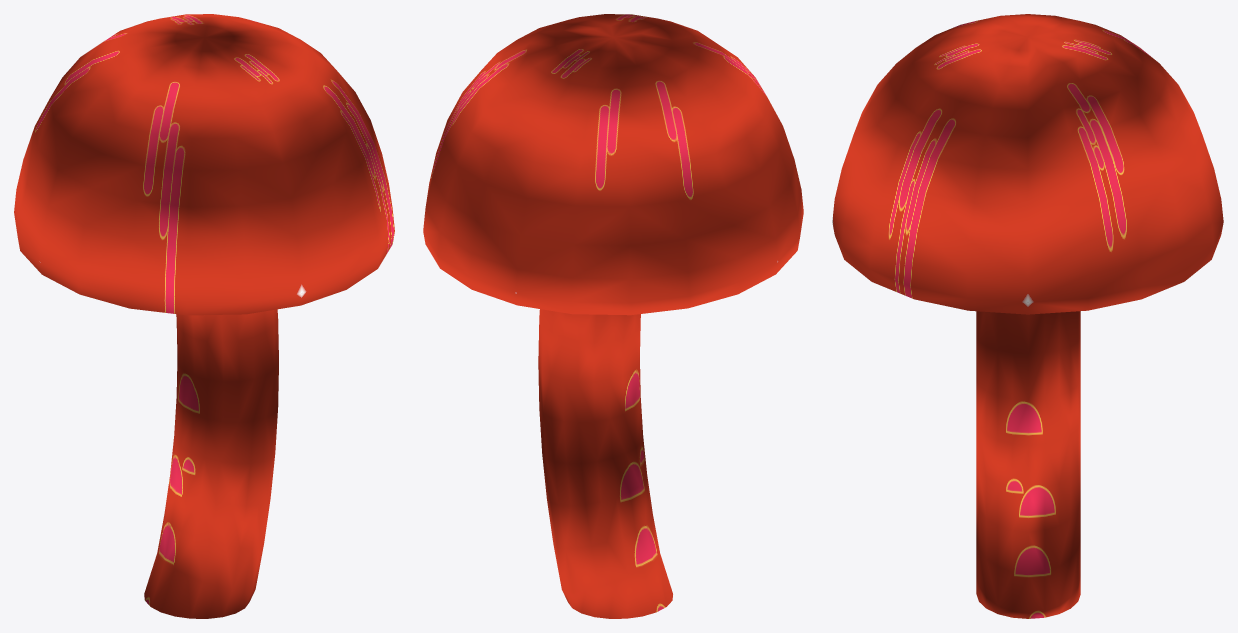
File: Mushroom.obj
3 renders of one model, left to right at view 1: azimuth 30°, elevation 25°; view 2: azimuth 150°, elevation 25°; view 3: azimuth 270°, elevation 25°, orthographic.
Visible parts, largest first — view 1: Shroom; view 2: Shroom; view 3: Shroom.
Part boxes in pixels (x1=…): Shroom: x1=14, y1=14, x2=394, y2=618; Shroom: x1=423, y1=14, x2=803, y2=618; Shroom: x1=832, y1=14, x2=1223, y2=618.
Size of the model in its own units: 6.83 by 11.14 by 7.02.
Materials: 2 (2 with a texture image).
